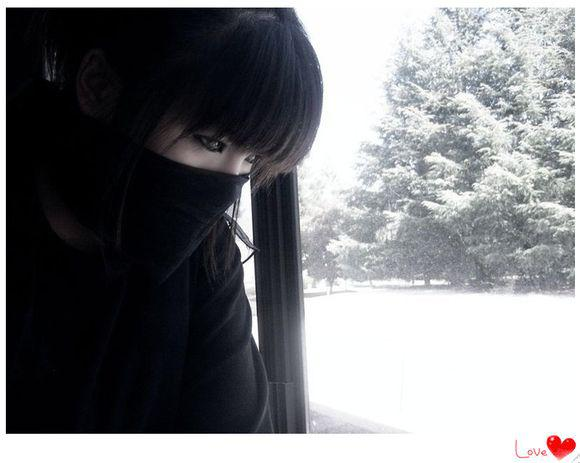OK: (112, 102, 272, 254)
